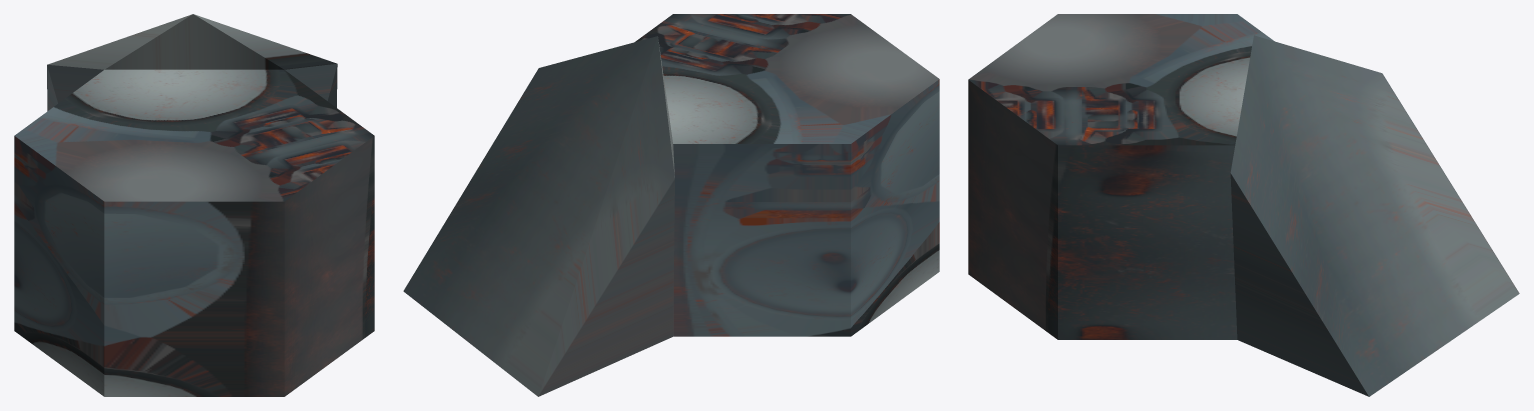
The model's file is sb_obj_indoor002_IronPot01c_col.fbx.
The picture shows the model from 3 angles, left to right: view 1: azimuth 30°, elevation 25°; view 2: azimuth 150°, elevation 25°; view 3: azimuth 270°, elevation 25°; orthographic projection.
Parts seen in each view (by area): view 1: sb_obj_indoor002_IronPot01c_col; view 2: sb_obj_indoor002_IronPot01c_col; view 3: sb_obj_indoor002_IronPot01c_col.
Part boxes in pixels (bbox=[...]): sb_obj_indoor002_IronPot01c_col: bbox=[14, 14, 374, 396]; sb_obj_indoor002_IronPot01c_col: bbox=[403, 14, 939, 396]; sb_obj_indoor002_IronPot01c_col: bbox=[968, 14, 1519, 396].
Size of the model in its own units: 0.4774 by 0.3124 by 0.5908.
